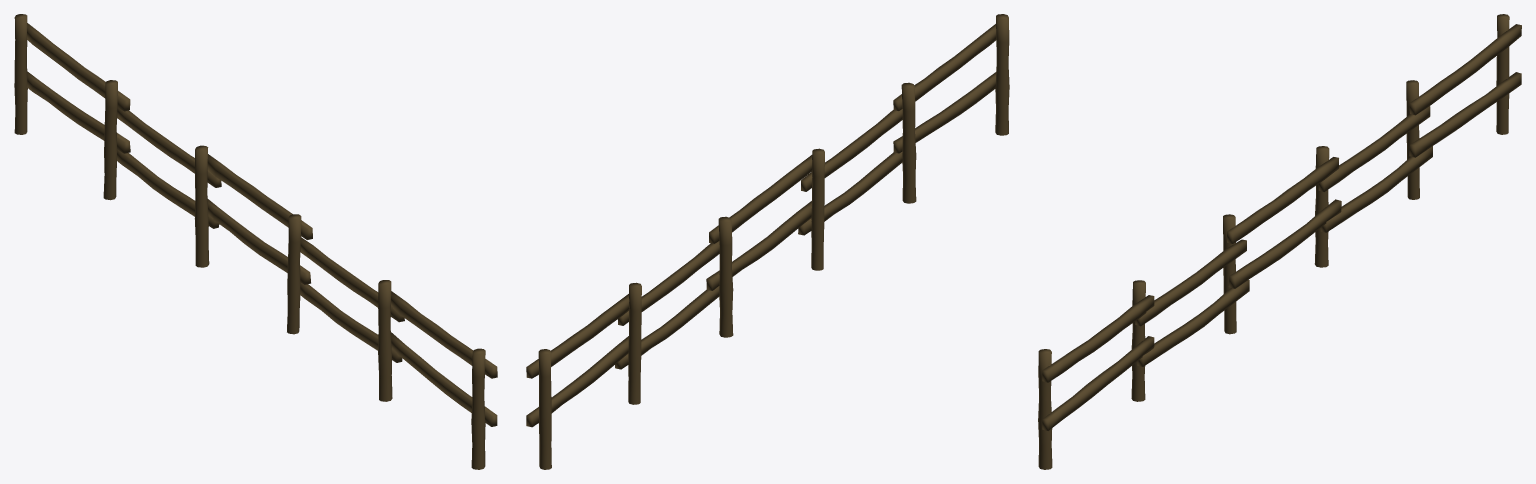
Rendered from valla.fbx.
3 views of the same model, side by side, from view 1: azimuth 30°, elevation 25°; view 2: azimuth 150°, elevation 25°; view 3: azimuth 330°, elevation 25° (orthographic).
Parts seen in each view (by area): view 1: f4; view 2: f4; view 3: f4.
Boxes of the visible parts, box(x1,y1,x2,y2) form: f4: box(14, 14, 497, 469); f4: box(526, 14, 1009, 469); f4: box(1038, 14, 1521, 469).
Bounding box in the file's own units: 10.33 × 65.66 × 484.
